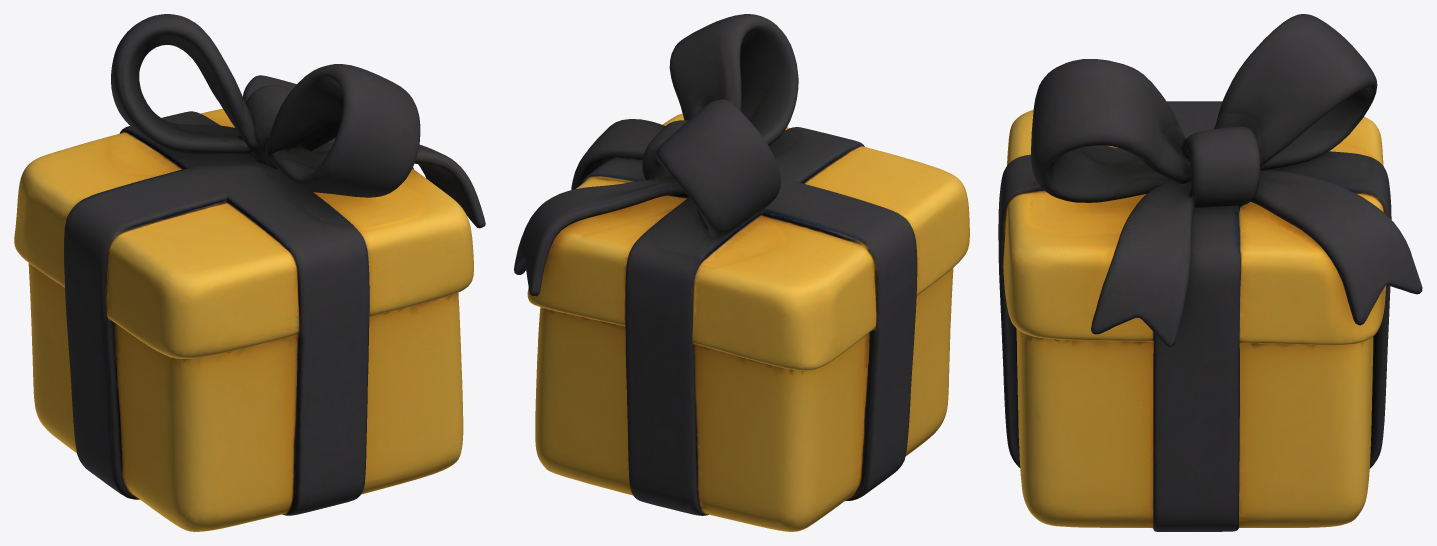
Rendered from gift.glb.
3 views of the same model, side by side, from view 1: azimuth 30°, elevation 25°; view 2: azimuth 150°, elevation 25°; view 3: azimuth 270°, elevation 25° (orthographic). The views are drawn at different scales.
Parts seen in each view (by area): view 1: tripo_node_96af6b7c-a95d-4cd3-bc0f-8d2052f9d4e3; view 2: tripo_node_96af6b7c-a95d-4cd3-bc0f-8d2052f9d4e3; view 3: tripo_node_96af6b7c-a95d-4cd3-bc0f-8d2052f9d4e3.
Boxes of the visible parts, x1=… form: tripo_node_96af6b7c-a95d-4cd3-bc0f-8d2052f9d4e3: x1=14, y1=14, x2=485, y2=531; tripo_node_96af6b7c-a95d-4cd3-bc0f-8d2052f9d4e3: x1=514, y1=14, x2=969, y2=531; tripo_node_96af6b7c-a95d-4cd3-bc0f-8d2052f9d4e3: x1=998, y1=14, x2=1422, y2=531.
Bounding box in the file's own units: 0.8996 × 1 × 0.8843.
Materials: 1 (1 with a texture image).
